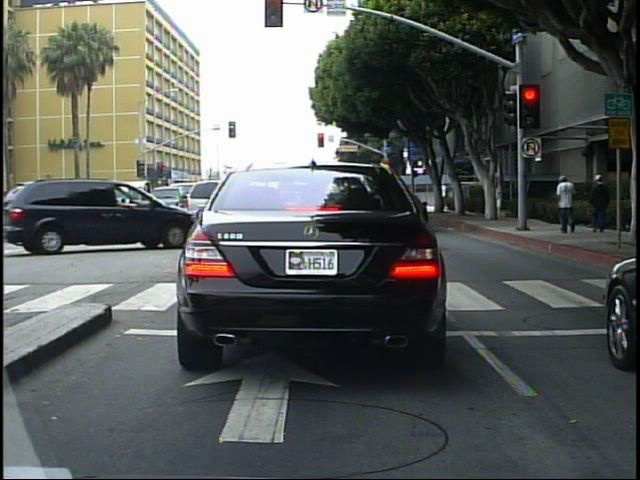person: (556, 172, 584, 236), (588, 170, 612, 236), (493, 178, 507, 221), (437, 179, 451, 212)
